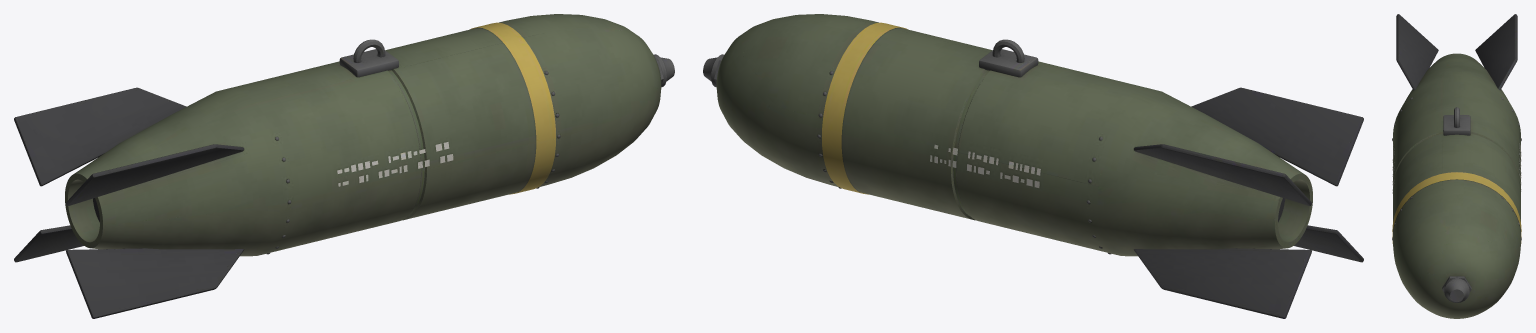
The model's file is bombs_1.glb.
The picture shows the model from 3 angles, left to right: view 1: azimuth 30°, elevation 25°; view 2: azimuth 150°, elevation 25°; view 3: azimuth 270°, elevation 25°; orthographic projection. The views are drawn at different scales.
Visible parts, largest first — view 1: bombs_1; view 2: bombs_1; view 3: bombs_1.
Boxes of the visible parts, x1,y1,x2,y2 form: bombs_1: (14, 14, 674, 318); bombs_1: (703, 14, 1363, 318); bombs_1: (1392, 14, 1521, 318).
Size of the model in its own units: 0.42 by 0.1166 by 0.1013.
5 materials, 5 textured.
